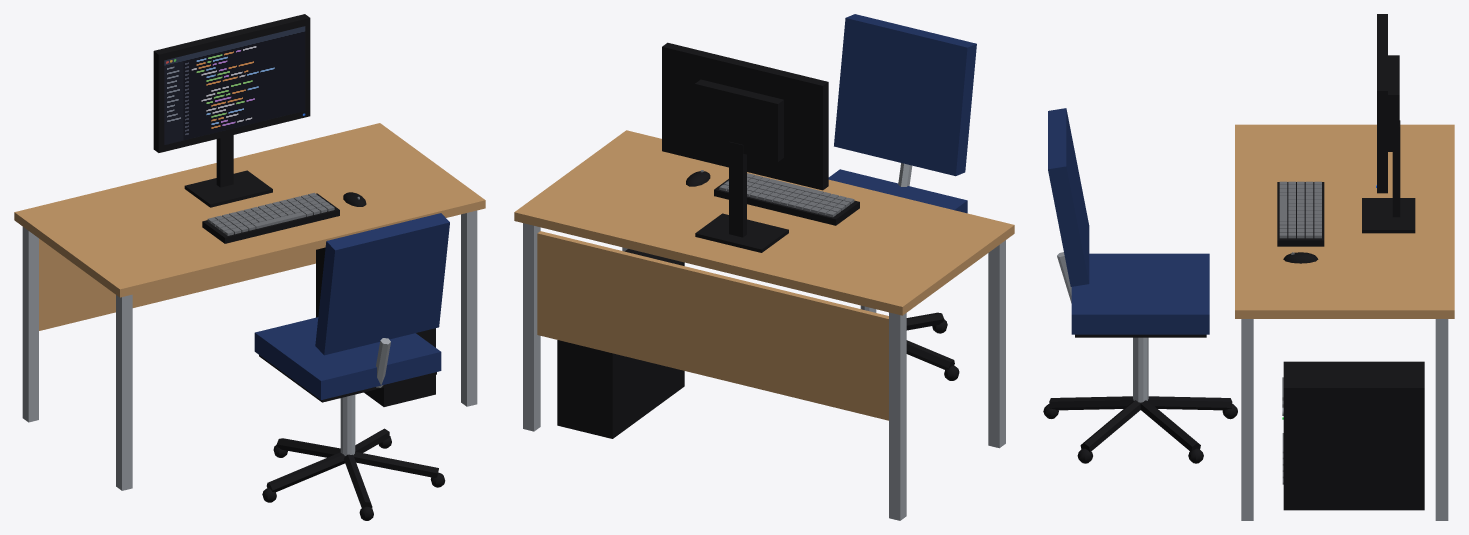
Rendered from workstation.obj.
3 views of the same model, side by side, from view 1: azimuth 30°, elevation 25°; view 2: azimuth 150°, elevation 25°; view 3: azimuth 270°, elevation 25° (orthographic). The views are drawn at different scales.
Visible parts, largest first — view 1: workstation; view 2: workstation; view 3: workstation.
Boxes of the visible parts, left/top/right/bottom form: workstation: left=14, top=14, right=485, bottom=520; workstation: left=514, top=14, right=1014, bottom=520; workstation: left=1043, top=14, right=1454, bottom=520.
Bounding box in the file's own units: 1.4 × 1.33 × 1.31.
Materials: 8 (1 with a texture image).
